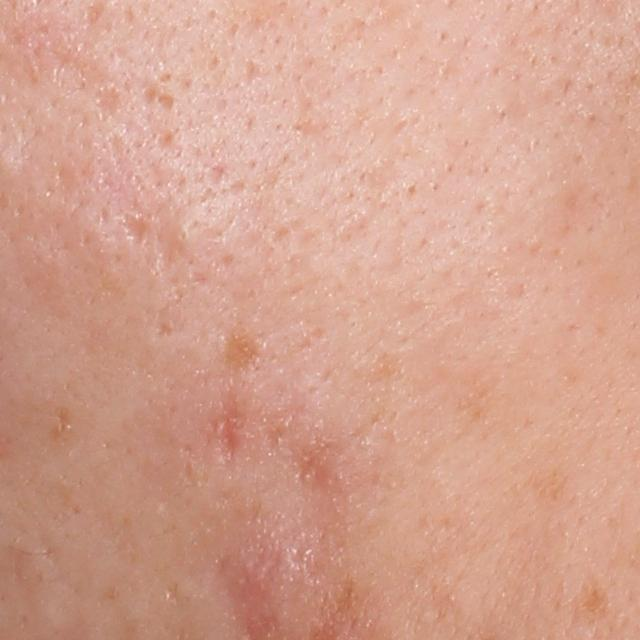atrophic_scar: (152, 214, 192, 273), (213, 397, 245, 470), (115, 210, 154, 251), (91, 83, 122, 124), (140, 85, 178, 115)
comedo: (169, 220, 198, 249)
